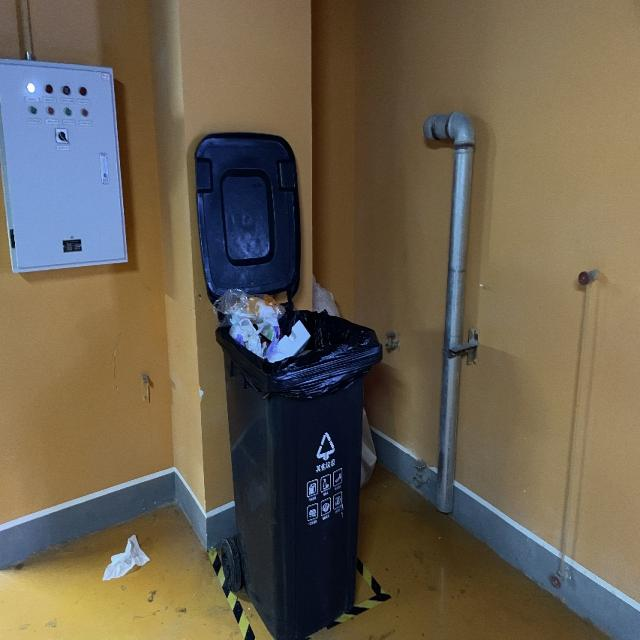garbage: (101, 533, 150, 581)
overflow: (211, 288, 383, 639)
